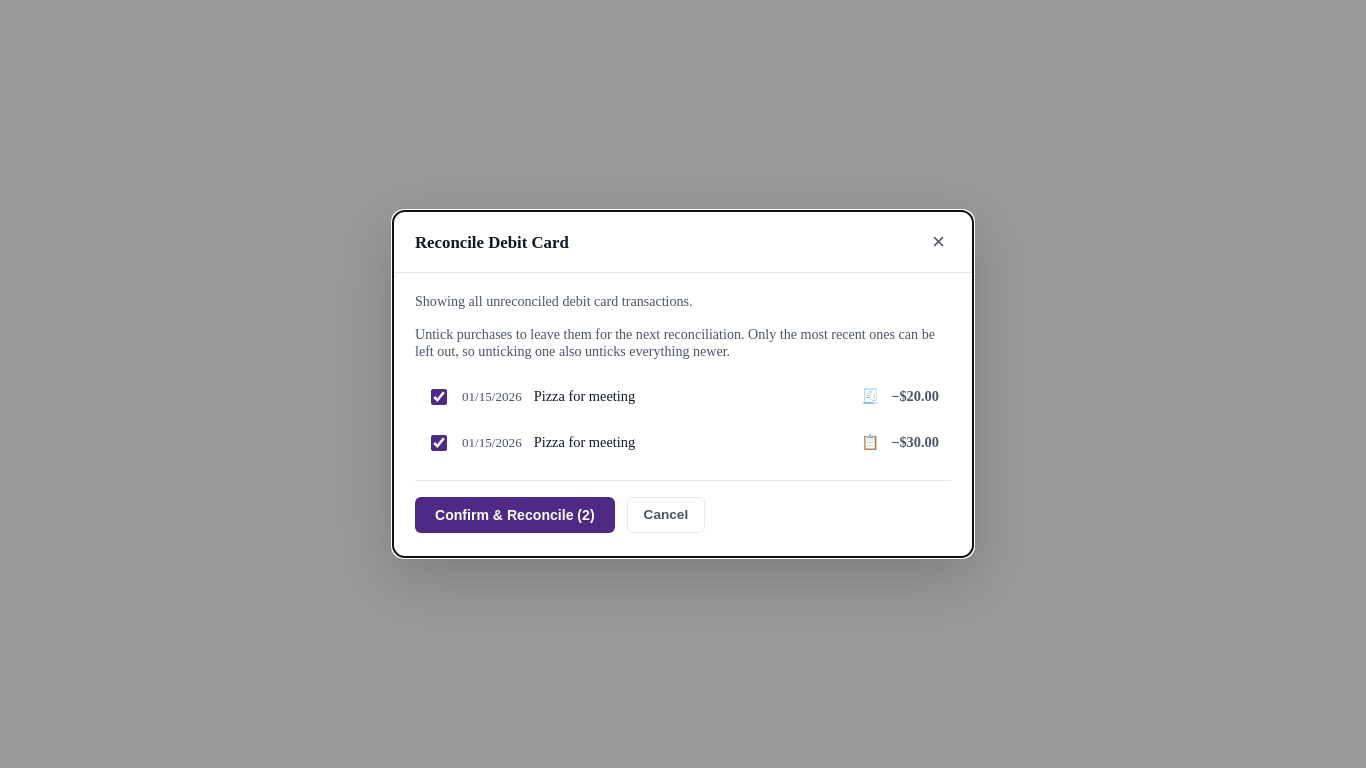
Test case: ReconciliationModal › confirming reconciles the selected transactions and shows a success summary
The image size is (1366, 768).
Click the button "Confirm & Reconcile (2)" at (515, 515), box [415, 497, 615, 533]
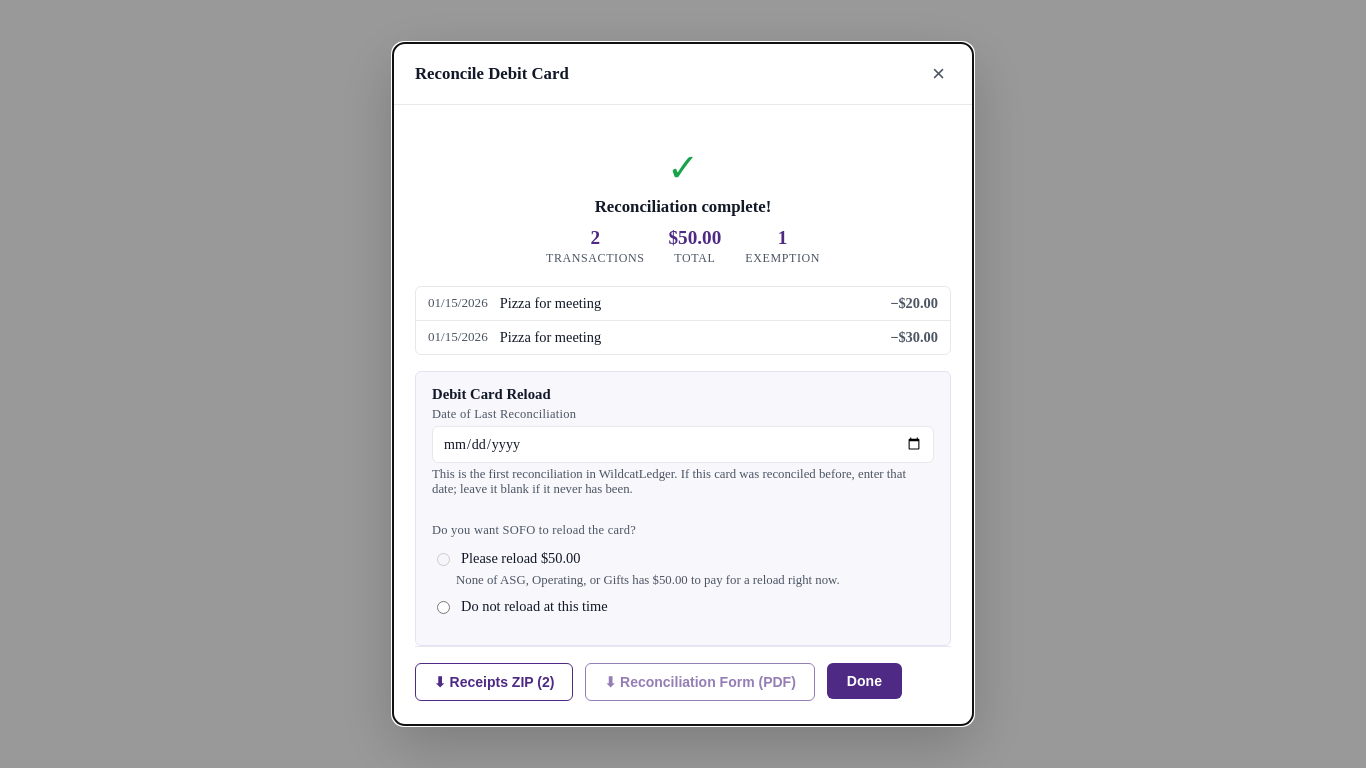
Result: the text "Reconciliation complete!" is shown at [595, 197, 771, 217]
Result: the text "2" is shown at [590, 227, 600, 249]
Result: the text "$50.00" is shown at [668, 227, 721, 249]
